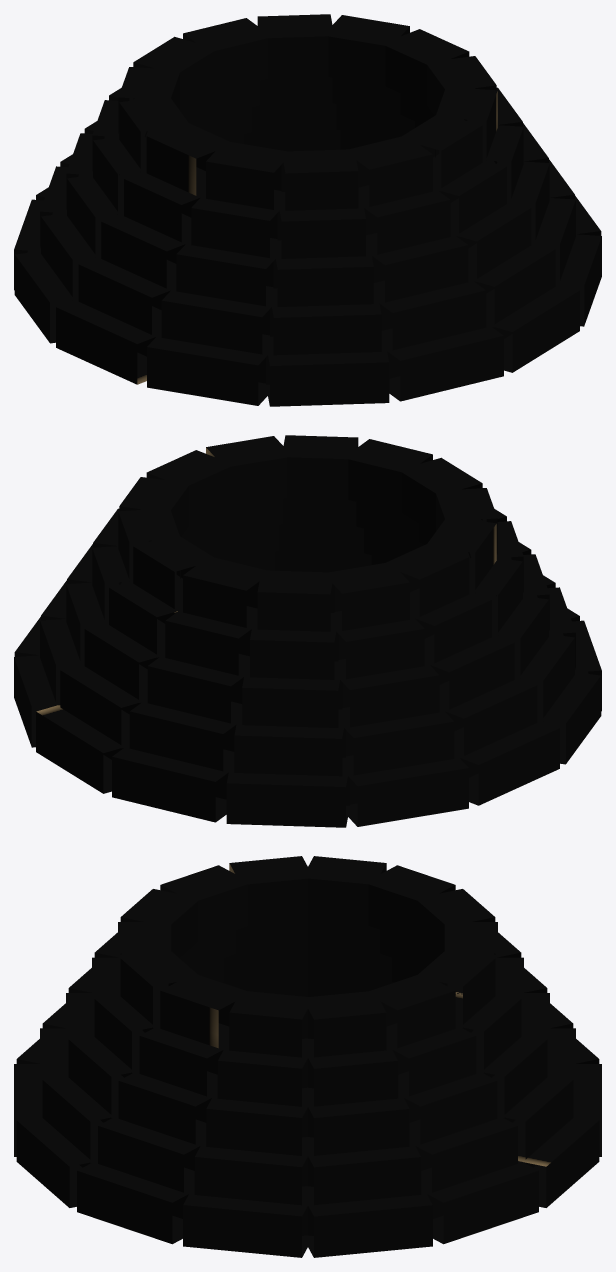
Rendered from cordage_rouleau.obj.
3 renders of one model, top to bottom at view 1: azimuth 30°, elevation 25°; view 2: azimuth 150°, elevation 25°; view 3: azimuth 270°, elevation 25°, orthographic.
Parts seen in each view (by area): view 1: corps; view 2: corps; view 3: corps.
Boxes of the visible parts, x1,y1,x2,y2 form: corps: (14,14,601,406); corps: (14,435,601,827); corps: (14,856,601,1257).
Bounding box in the file's own units: 0.7882 × 0.28 × 0.772.
